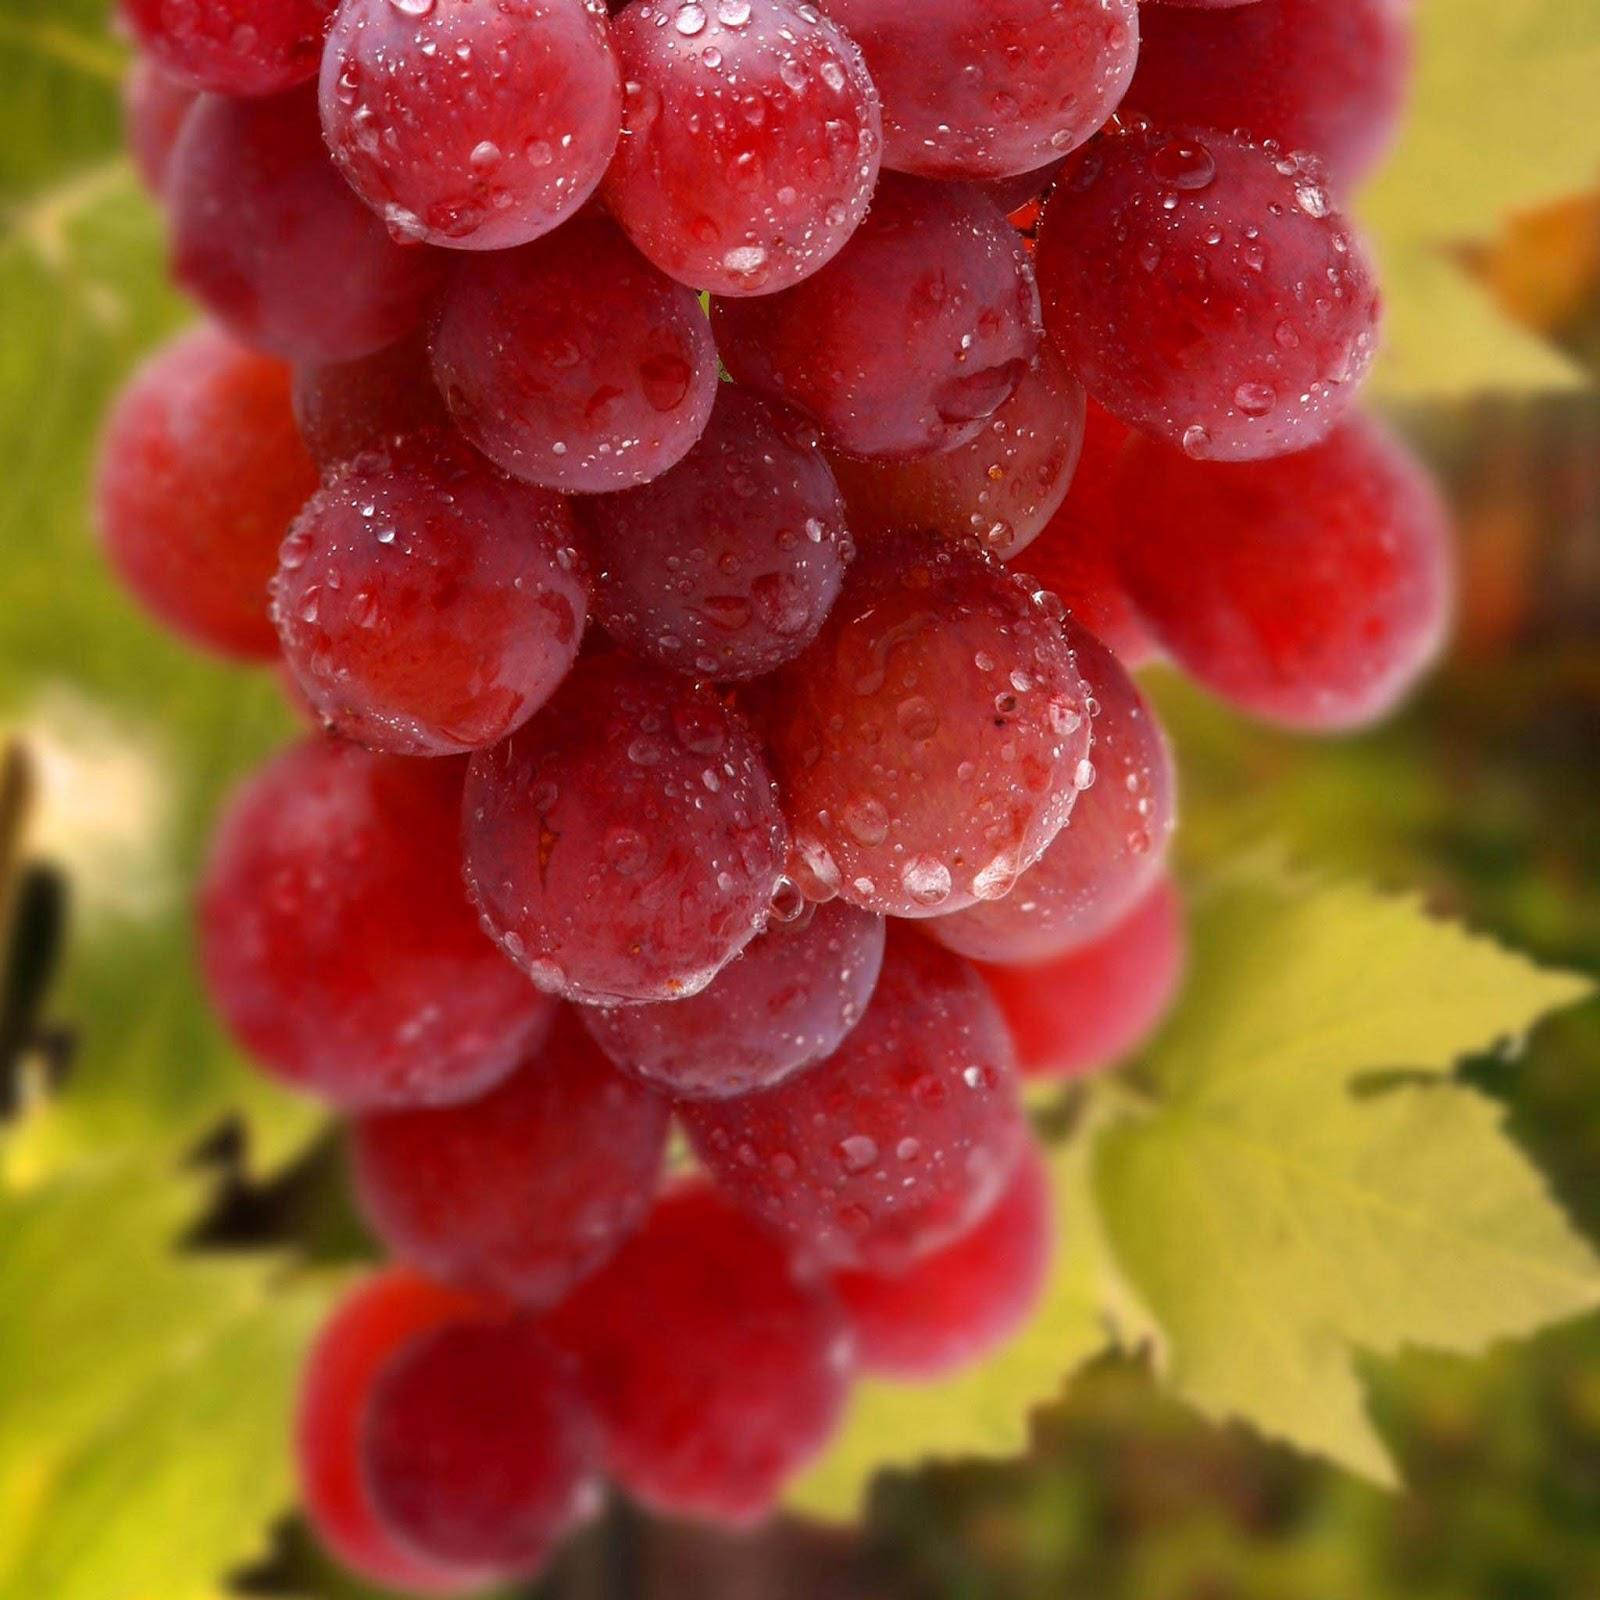grape: (50, 4, 1487, 1587)
